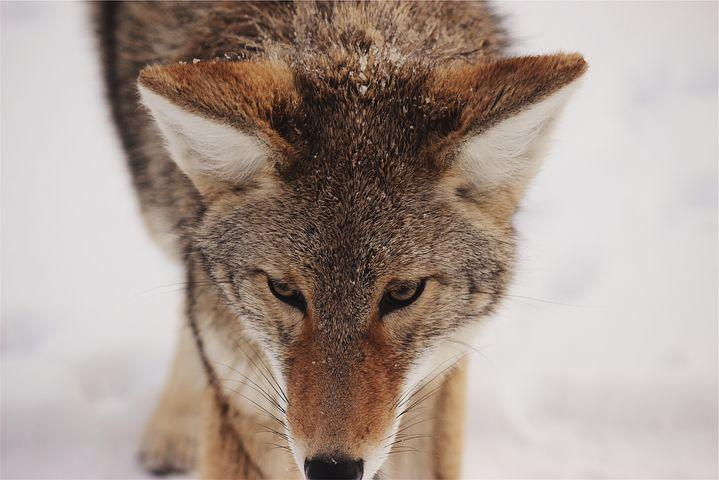Wolf: (83, 0, 590, 480)
